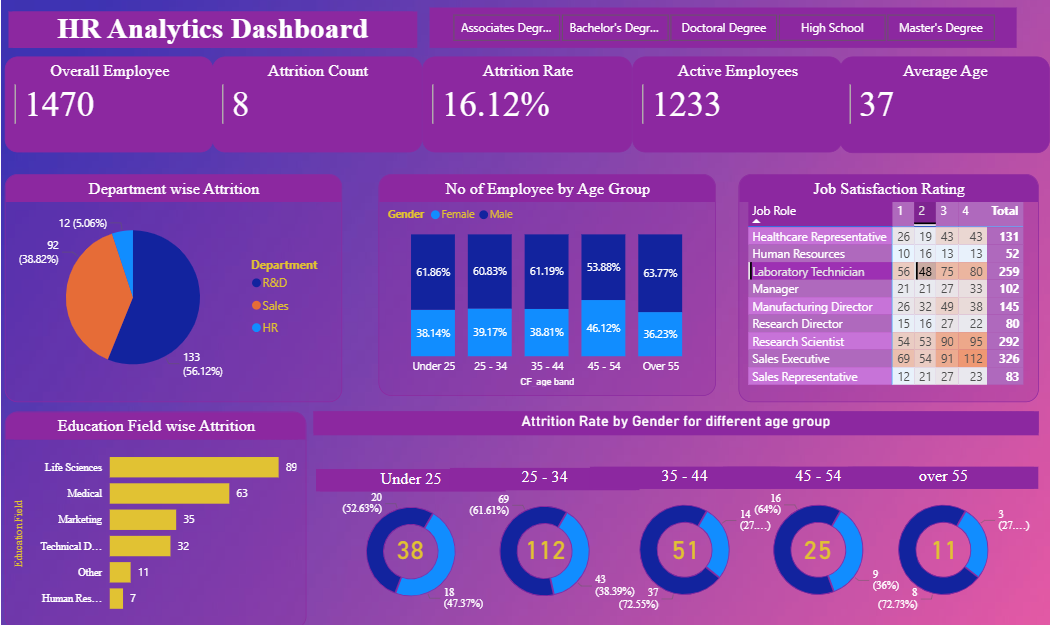

The dashboard page shown, as its layout file describes it:
{"tool":"powerbi","page":{"name":"Page 1","canvas":[1280,720],"ordinal":0},"visuals":[{"type":"multiRowCard","title":"Overall Employee","fields":{"Values":["Sum(Table1.Employee Count)"]},"box":[43.9,65.9,238.8,109.8],"z":0},{"type":"multiRowCard","title":"Attrition Count","fields":{"Values":["Sum(HR data.Attrition Count)"]},"box":[281.3,65.9,240.1,109.8],"z":1000},{"type":"multiRowCard","title":"Attrition Rate","fields":{"Values":["HR data.Attrition Rate"]},"box":[521.4,65.9,240.1,109.8],"z":2000},{"type":"multiRowCard","title":"Active Employees","fields":{"Values":["HR data.Active Employees"]},"box":[761.6,65.9,240.1,109.8],"z":3000},{"type":"multiRowCard","title":"Average Age","fields":{"Values":["Avg(HR data.Age)"]},"box":[998.6,65.7,240,110],"z":4000},{"type":"pieChart","title":"Department wise Attrition","fields":{"Category":["HR data.Department"],"Y":["Sum(HR data.Attrition Count)"]},"box":[43.9,200.3,385.6,260.7],"z":5000},{"type":"hundredPercentStackedColumnChart","title":"No of Employee by Age Group","fields":{"Category":["HR data.CF_age band"],"Y":["Sum(HR data.Employee Count)"],"Series":["HR data.Gender"]},"box":[472,200.3,385.6,253.9],"z":6000},{"type":"pivotTable","title":"Job Satisfaction Rating","fields":{"Rows":["HR data.Job Role"],"Columns":["HR data.Job Satisfaction"],"Values":["Sum(HR data.Employee Count)"]},"box":[882.3,200.3,343.1,260.7],"z":7000},{"type":"barChart","title":"Education Field wise Attrition","fields":{"Category":["HR data.Education Field"],"Y":["Sum(HR data.Attrition Count)"]},"box":[44,471,345,249],"z":8000},{"type":"donutChart","title":"Under 25","fields":{"Category":["HR data.Gender"],"Y":["Sum(HR data.Attrition Count)"],"Series":["HR data.CF_age band"]},"box":[400,537.1,217.1,168.6],"z":9000},{"type":"donutChart","title":"25 - 34","fields":{"Category":["HR data.Gender"],"Y":["Sum(HR data.Attrition Count)"],"Series":["HR data.CF_age band"]},"box":[552.9,535.7,217.1,170],"z":10000},{"type":"donutChart","title":"35 - 44","fields":{"Category":["HR data.Gender"],"Y":["Sum(HR data.Attrition Count)"],"Series":["HR data.CF_age band"]},"box":[713.4,534.3,217.1,170],"z":11000},{"type":"donutChart","title":"45 - 54","fields":{"Category":["HR data.Gender"],"Y":["Sum(HR data.Attrition Count)"],"Series":["HR data.CF_age band"]},"box":[866.3,534.3,217.1,170],"z":12000},{"type":"donutChart","title":"over 55","fields":{"Category":["HR data.Gender"],"Y":["Sum(HR data.Attrition Count)"],"Series":["HR data.CF_age band"]},"box":[1008.6,534.3,217.1,170],"z":13000},{"type":"textbox","title":"Attrition Rate by Gender for different age group","box":[397.1,471.4,828.6,27.1],"z":14000},{"type":"card","fields":{"Values":["Sum(HR data.Attrition Count)"]},"box":[432.9,584.3,150,88.6],"z":15000},{"type":"card","fields":{"Values":["Sum(HR data.Attrition Count)"]},"box":[587.1,584.3,150,88.6],"z":16000},{"type":"card","fields":{"Values":["Sum(HR data.Attrition Count)"]},"box":[747.1,584.3,150,88.6],"z":17000},{"type":"card","fields":{"Values":["Sum(HR data.Attrition Count)"]},"box":[898.6,584.3,150,88.6],"z":18000},{"type":"card","fields":{"Values":["Sum(HR data.Attrition Count)"]},"box":[1042.9,584.3,150,88.6],"z":19000},{"type":"textbox","title":"HR Analytics Dashboard","box":[48.6,14.3,467.1,41.4],"z":20000},{"type":"slicer","fields":{"Values":["HR data.Education"]},"box":[530,10,670,45.7],"z":21000}]}

Visuals, with their boxes on the page's 1280x720 design canvas (x1, y1, x2, y2). These are canvas units, not pixel positions in the 1050x625 screenshot, which may show the page scaled, cropped or inside an application window:
"Overall Employee" multiRowCard: bbox=(44, 66, 283, 176)
"Attrition Count" multiRowCard: bbox=(281, 66, 521, 176)
"Attrition Rate" multiRowCard: bbox=(521, 66, 762, 176)
"Active Employees" multiRowCard: bbox=(762, 66, 1002, 176)
"Average Age" multiRowCard: bbox=(999, 66, 1239, 176)
"Department wise Attrition" pieChart: bbox=(44, 200, 430, 461)
"No of Employee by Age Group" hundredPercentStackedColumnChart: bbox=(472, 200, 858, 454)
"Job Satisfaction Rating" pivotTable: bbox=(882, 200, 1225, 461)
"Education Field wise Attrition" barChart: bbox=(44, 471, 389, 720)
"Under 25" donutChart: bbox=(400, 537, 617, 706)
"25 - 34" donutChart: bbox=(553, 536, 770, 706)
"35 - 44" donutChart: bbox=(713, 534, 930, 704)
"45 - 54" donutChart: bbox=(866, 534, 1083, 704)
"over 55" donutChart: bbox=(1009, 534, 1226, 704)
"Attrition Rate by Gender for different age group" textbox: bbox=(397, 471, 1226, 498)
card - Sum(HR data.Attrition Count): bbox=(433, 584, 583, 673)
card - Sum(HR data.Attrition Count): bbox=(587, 584, 737, 673)
card - Sum(HR data.Attrition Count): bbox=(747, 584, 897, 673)
card - Sum(HR data.Attrition Count): bbox=(899, 584, 1049, 673)
card - Sum(HR data.Attrition Count): bbox=(1043, 584, 1193, 673)
"HR Analytics Dashboard" textbox: bbox=(49, 14, 516, 56)
slicer - HR data.Education: bbox=(530, 10, 1200, 56)
